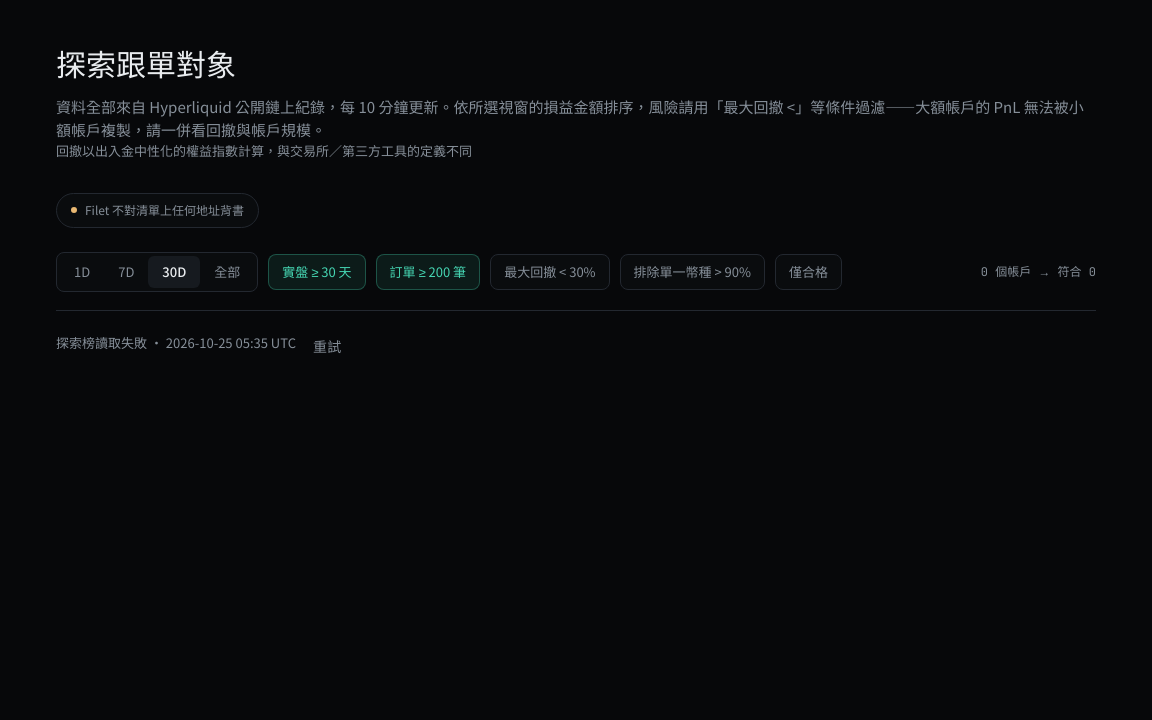
Test: ExplorePage — 三態 › fetch 失敗 → 顯示時間戳＋重試（R2·C 態三），點重試會重新打 API
Expected: the text "探索榜讀取失敗 · 2026-10-25 05:35 UTC" is shown, [56,333,296,353]
Click the button "重試" at (327, 347), box [308,329,347,365]
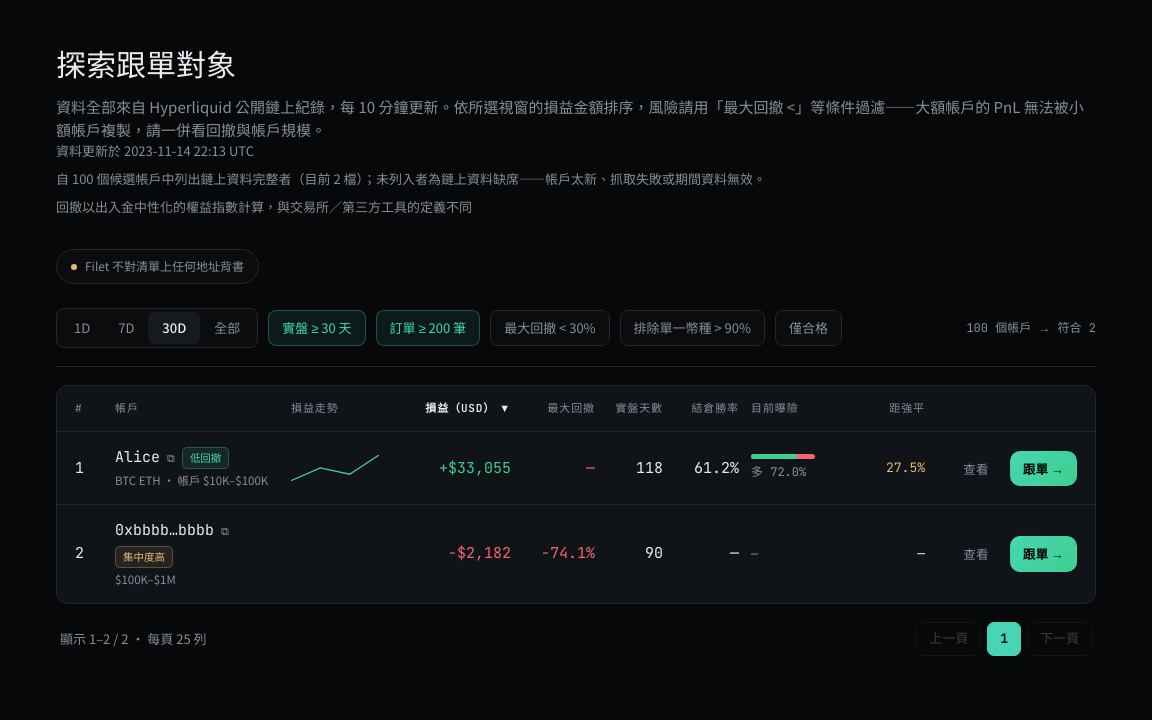
Now the link "Alice" is shown, box [115,446,160,470]
